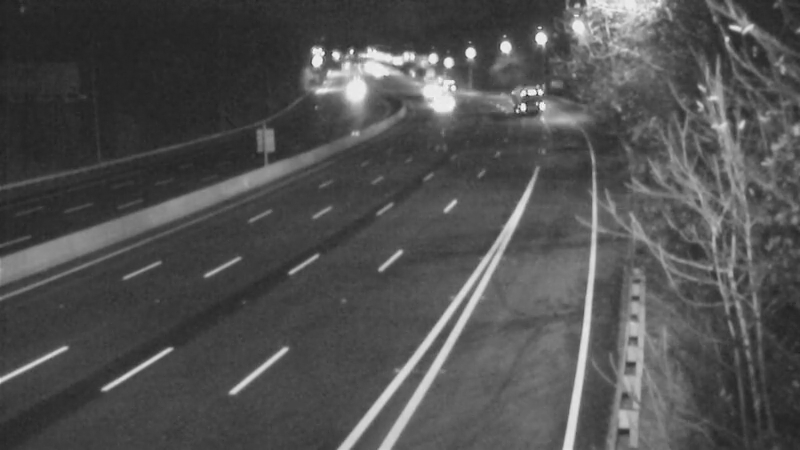vehicle: (425, 62, 475, 112), (402, 61, 452, 111), (491, 69, 541, 119), (416, 78, 466, 128), (326, 57, 376, 107)
